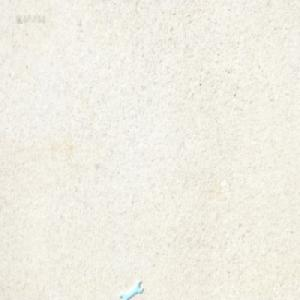Wrench: (119, 280, 143, 299)
